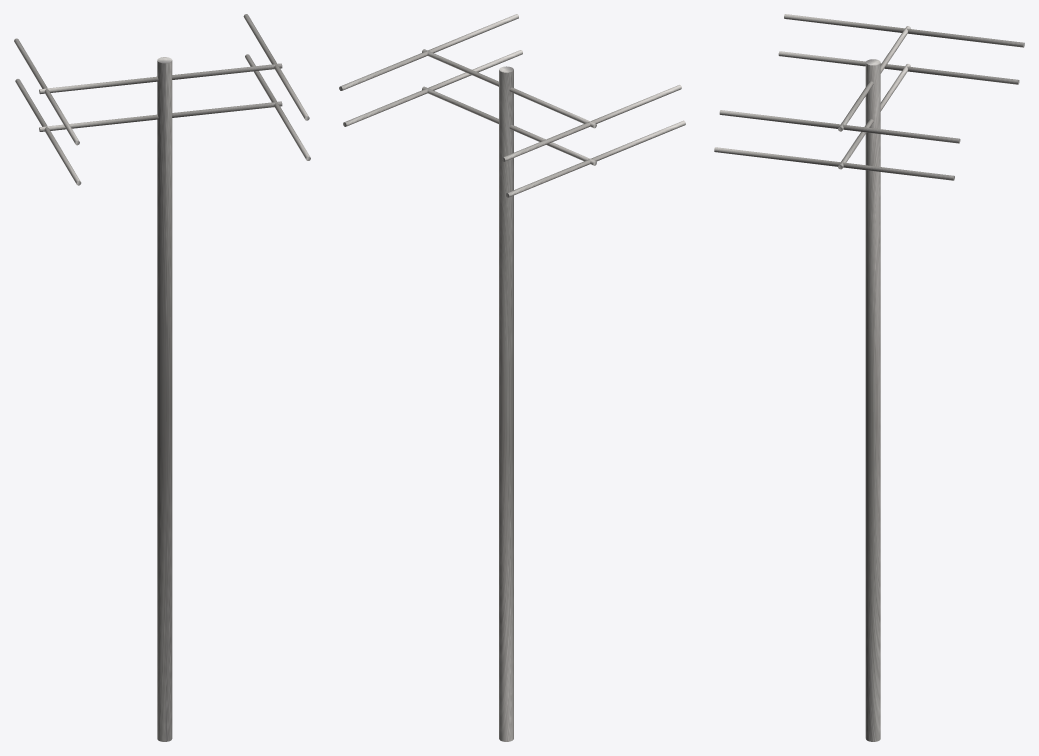
Rendered from tower.fbx.
The picture shows the model from 3 angles, left to right: view 1: azimuth 30°, elevation 25°; view 2: azimuth 150°, elevation 25°; view 3: azimuth 270°, elevation 25°; orthographic projection.
Parts seen in each view (by area): view 1: pCylinder4, pCylinder6, pCylinder5, pCylinder7, pCylinder8, pCylinder10, pCylinder9; view 2: pCylinder4, pCylinder7, pCylinder8, pCylinder10, pCylinder9, pCylinder6, pCylinder5; view 3: pCylinder4, pCylinder10, pCylinder9, pCylinder7, pCylinder8, pCylinder6, pCylinder5.
Part boxes in pixels (<box>): pCylinder4: <box>157,57,172,741</box>; pCylinder6: <box>39,63,282,94</box>; pCylinder5: <box>39,101,282,131</box>; pCylinder7: <box>14,38,79,145</box>; pCylinder8: <box>15,79,81,185</box>; pCylinder10: <box>243,14,309,120</box>; pCylinder9: <box>245,54,310,160</box>; pCylinder4: <box>499,66,513,741</box>; pCylinder7: <box>502,85,681,161</box>; pCylinder8: <box>506,120,685,197</box>; pCylinder10: <box>339,14,518,90</box>; pCylinder9: <box>343,50,522,126</box>; pCylinder6: <box>422,49,596,128</box>; pCylinder5: <box>422,86,596,165</box>; pCylinder4: <box>865,59,880,741</box>; pCylinder10: <box>719,110,960,143</box>; pCylinder9: <box>714,147,954,180</box>; pCylinder7: <box>784,14,1024,47</box>; pCylinder8: <box>778,51,1019,84</box>; pCylinder6: <box>838,26,910,131</box>; pCylinder5: <box>838,64,910,169</box>.
Size of the model in its own units: 121 by 300 by 125.
Materials: 1 (1 with a texture image).
